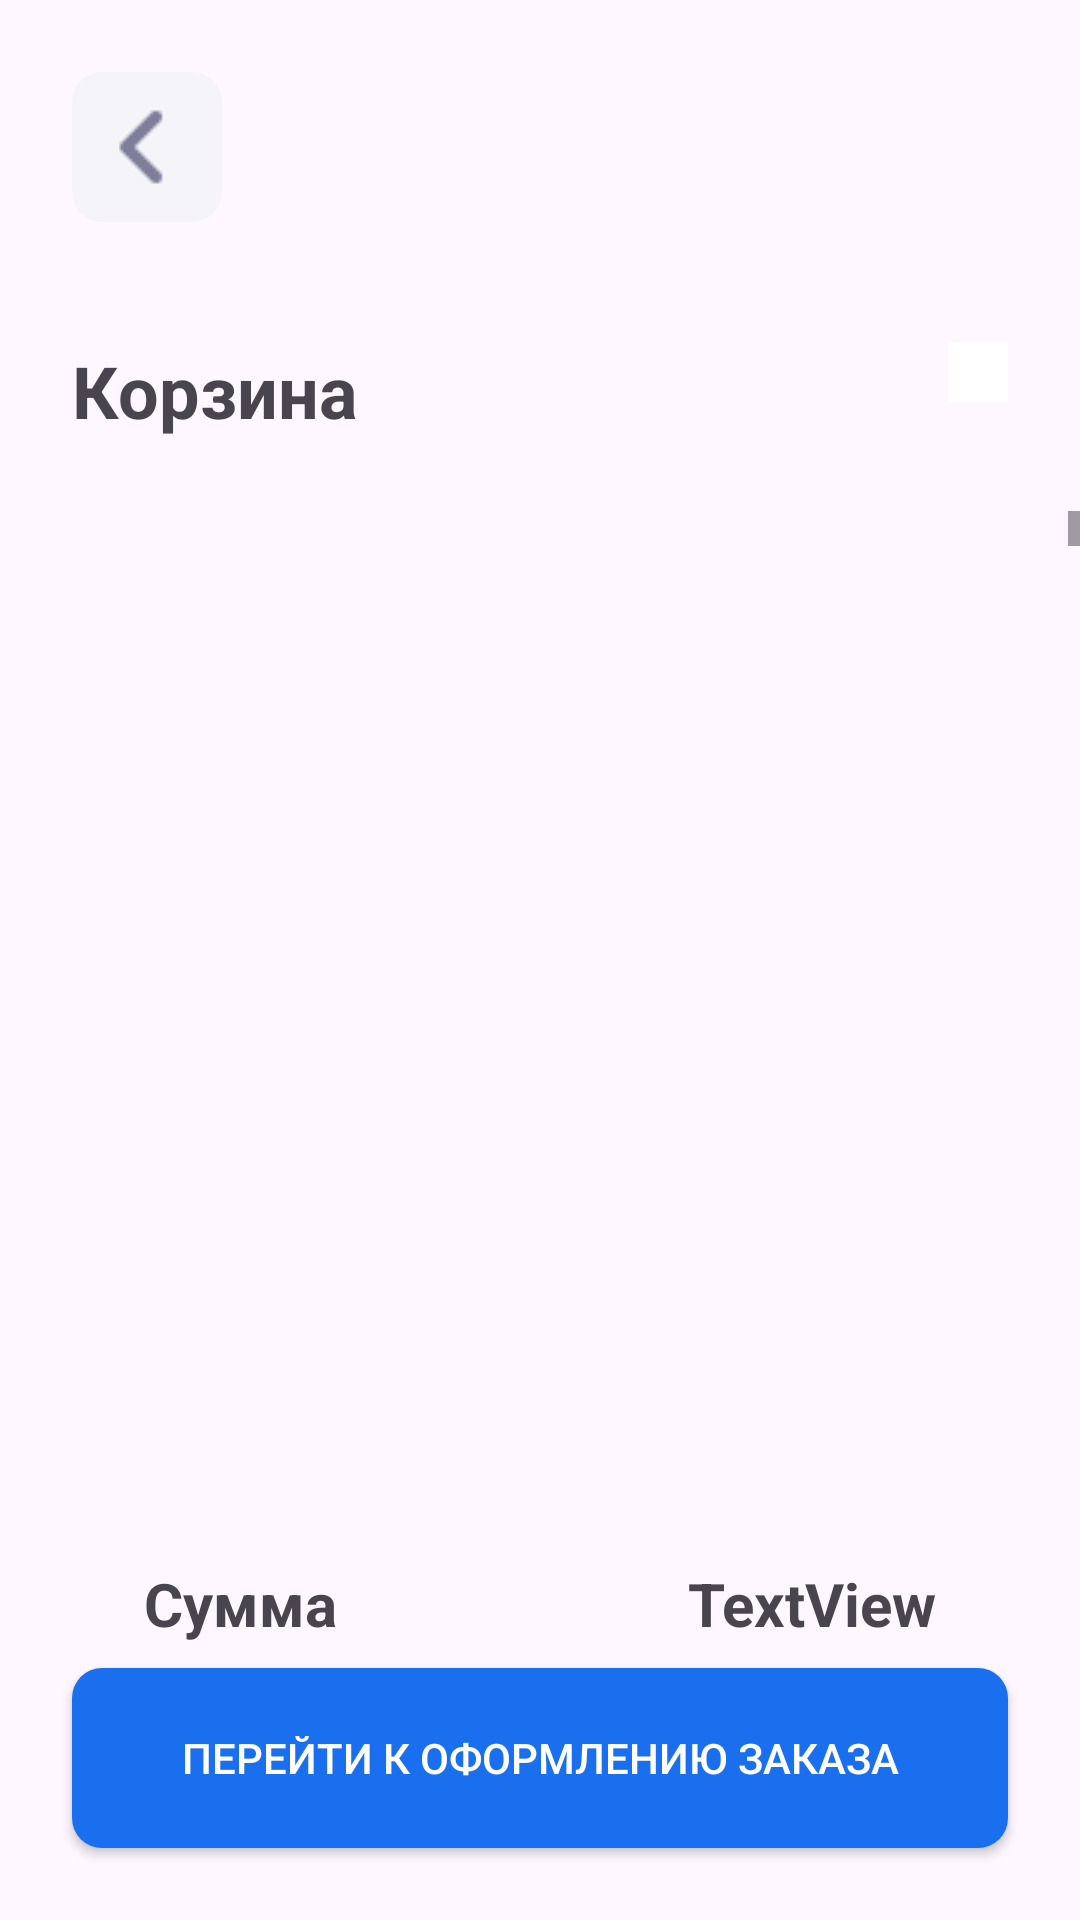

Screen size 1080x1920. Icon name, then its center in pixels as (x,y):
backarrow: (147,147)
